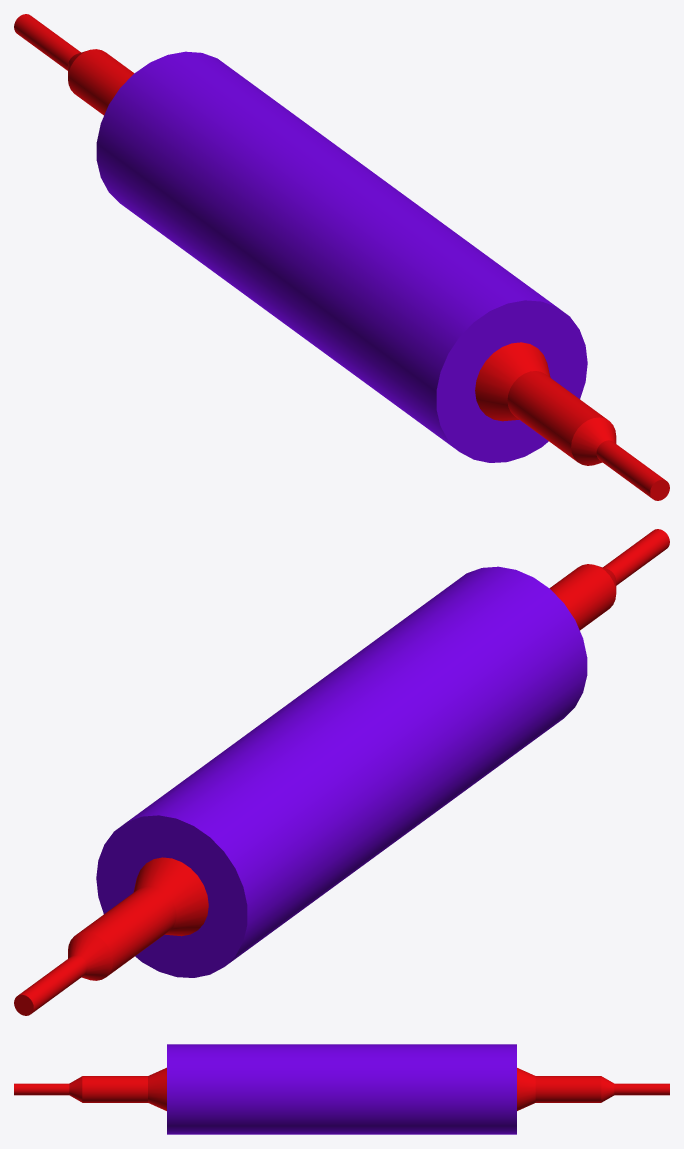
The picture shows the model from 3 angles, top to bottom: view 1: azimuth 30°, elevation 25°; view 2: azimuth 150°, elevation 25°; view 3: azimuth 270°, elevation 25°; orthographic projection. The views are drawn at different scales.
Visible parts, largest first — view 1: barrel, stepped_shaft, stepped_shaft.001; view 2: barrel, stepped_shaft.001, stepped_shaft; view 3: barrel, stepped_shaft, stepped_shaft.001.
Boxes of the visible parts, x1,y1,x2,y2 form: barrel: (96,51,587,462); stepped_shaft: (475,342,669,500); stepped_shaft.001: (14,14,134,115); barrel: (96,566,587,977); stepped_shaft.001: (14,857,208,1015); stepped_shaft: (549,529,669,630); barrel: (167,1044,516,1134); stepped_shaft: (14,1067,166,1110); stepped_shaft.001: (517,1068,669,1110).
Size of the model in its own units: 0.0137 by 0.0137 by 0.1.
